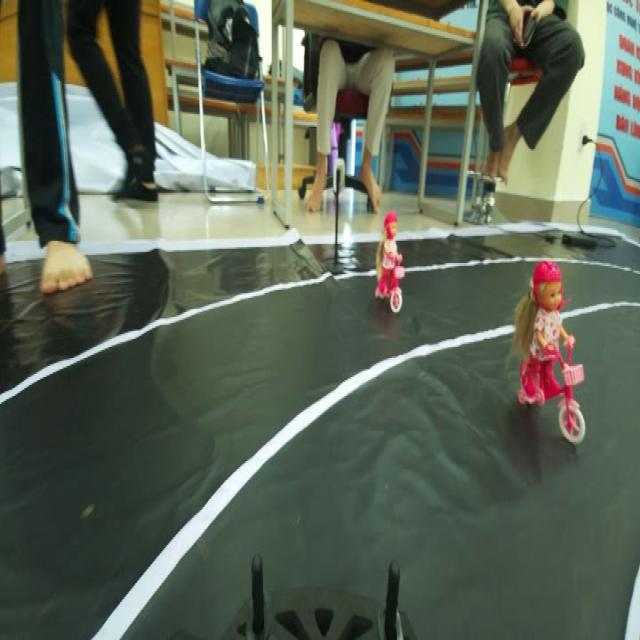pedestrian: (510, 260, 590, 443), (373, 213, 410, 311)
